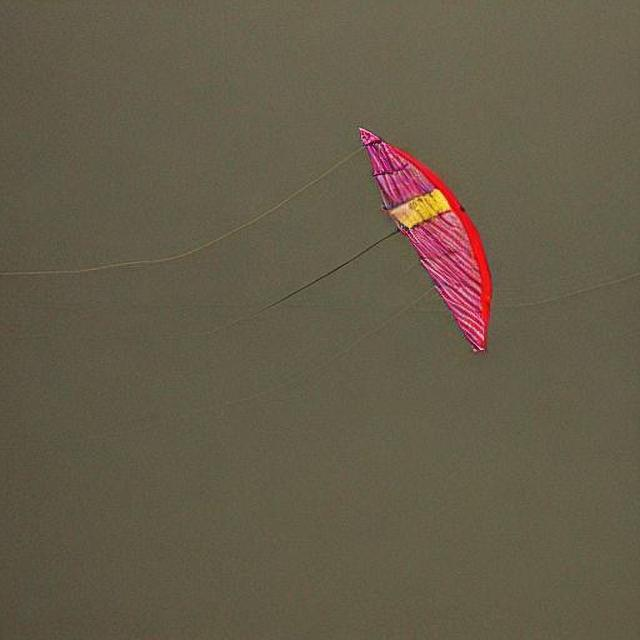floating object: (361, 127, 495, 351)
